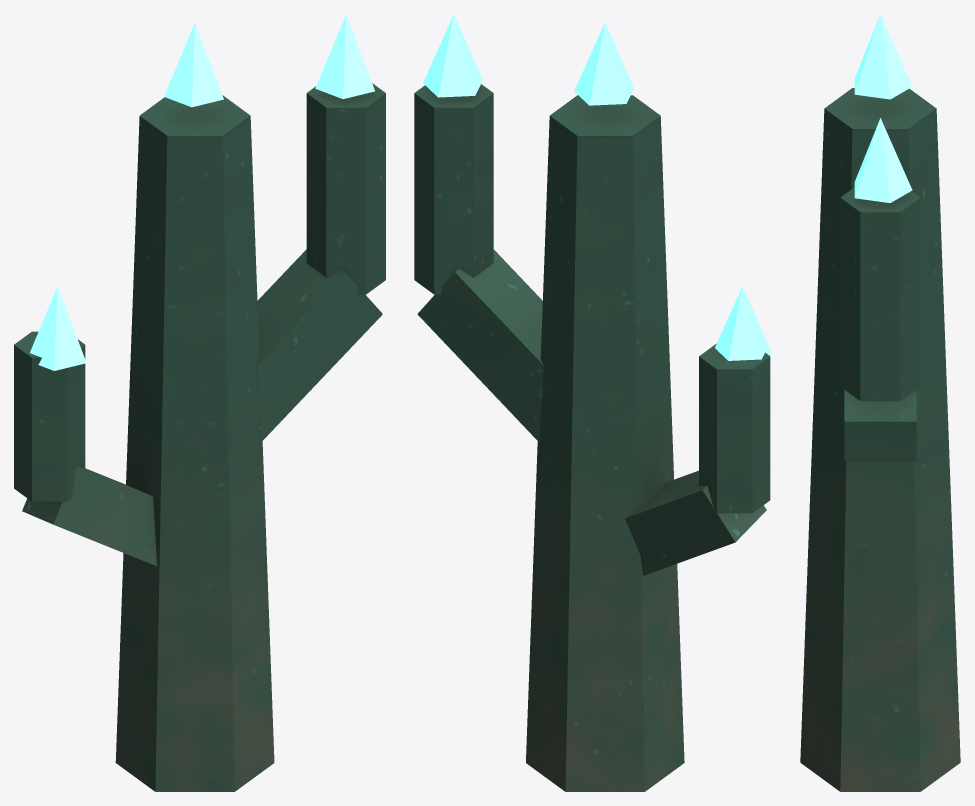
Rendered from cacto_cristal.glb.
3 views of the same model, side by side, from view 1: azimuth 30°, elevation 25°; view 2: azimuth 150°, elevation 25°; view 3: azimuth 270°, elevation 25° (orthographic).
Visible parts, largest first — view 1: cacto_cristal; view 2: cacto_cristal; view 3: cacto_cristal.
Part boxes in pixels (x1=…): cacto_cristal: x1=14, y1=14, x2=385, y2=791; cacto_cristal: x1=414, y1=14, x2=771, y2=791; cacto_cristal: x1=800, y1=14, x2=960, y2=791.
Size of the model in its own units: 0.5023 by 1.03 by 0.2.
Materials: 2 (1 with a texture image).
